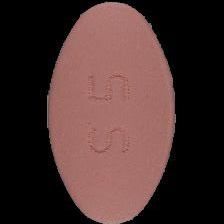33358-431: (0, 0, 224, 224)
